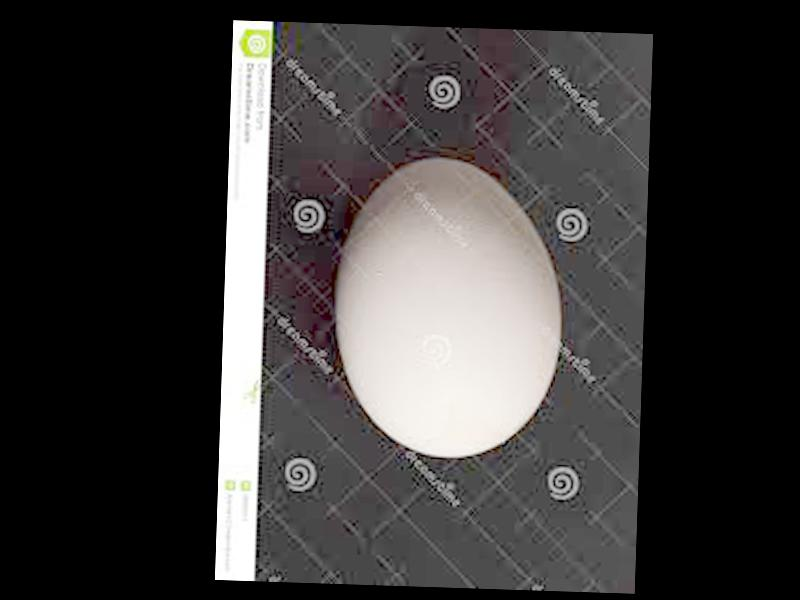Eggs: (331, 154, 565, 463)
